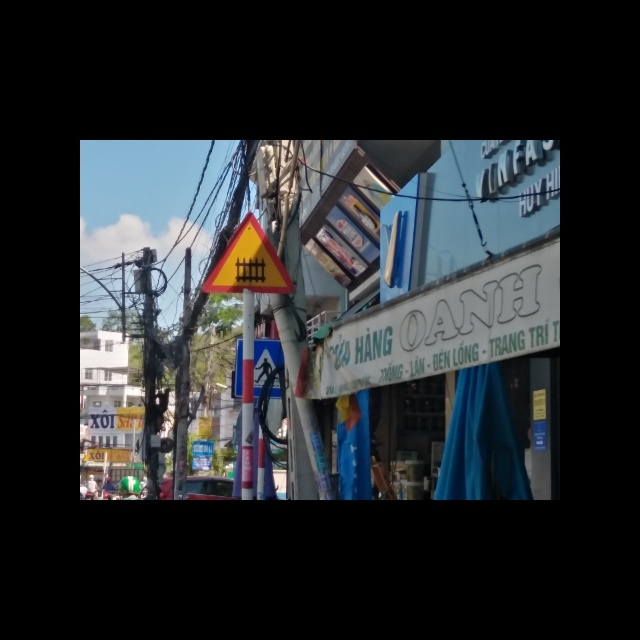Giao nhau với đường sắt có rào chắn: (201, 212, 299, 296)
